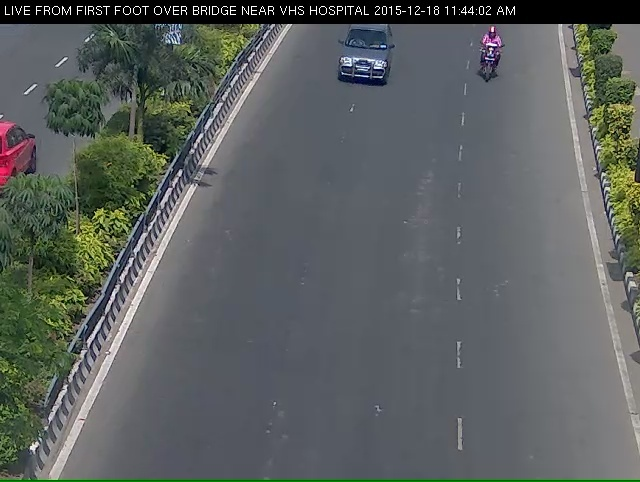Car: (332, 27, 393, 106)
Person: (479, 28, 510, 95)
